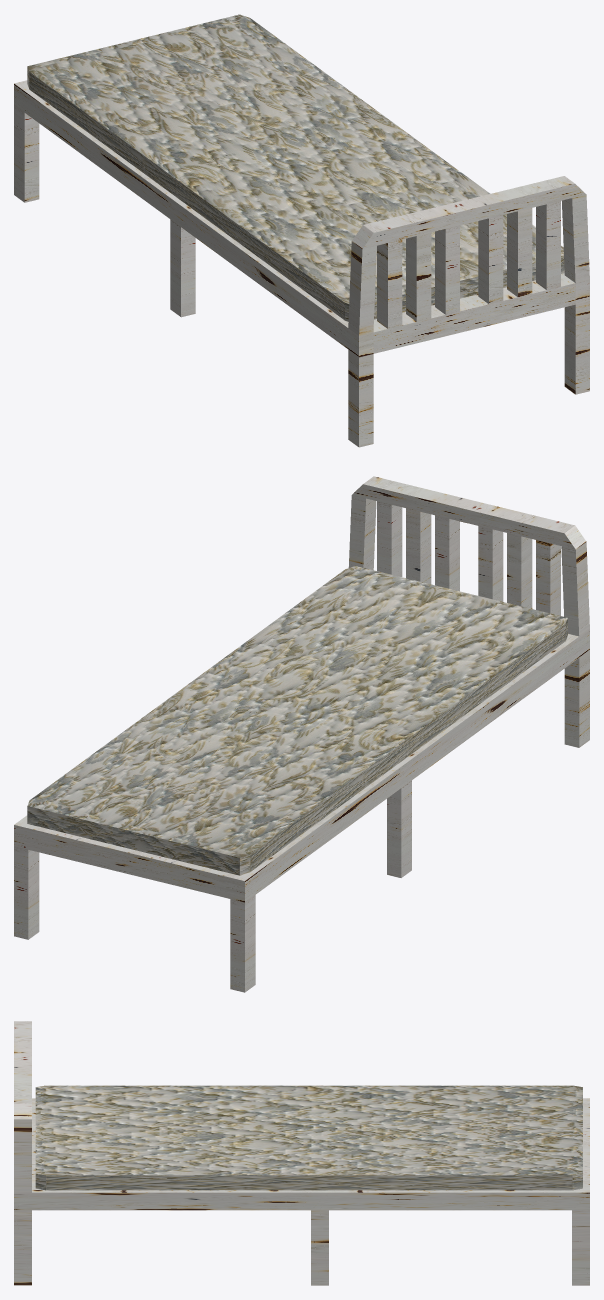
The model's file is PrisonBedMattress.fbx.
3 views of the same model, one above another, from view 1: azimuth 30°, elevation 25°; view 2: azimuth 150°, elevation 25°; view 3: azimuth 270°, elevation 25° (orthographic). The views are drawn at different scales.
Visible parts, largest first — view 1: Cube; view 2: Cube; view 3: Cube.
Boxes of the visible parts, <box> form: Cube: <box>14,14,589,447</box>; Cube: <box>14,476,589,992</box>; Cube: <box>14,1021,589,1285</box>.
Size of the model in its own units: 204 by 178 by 528.
Materials: 2 (2 with a texture image).
